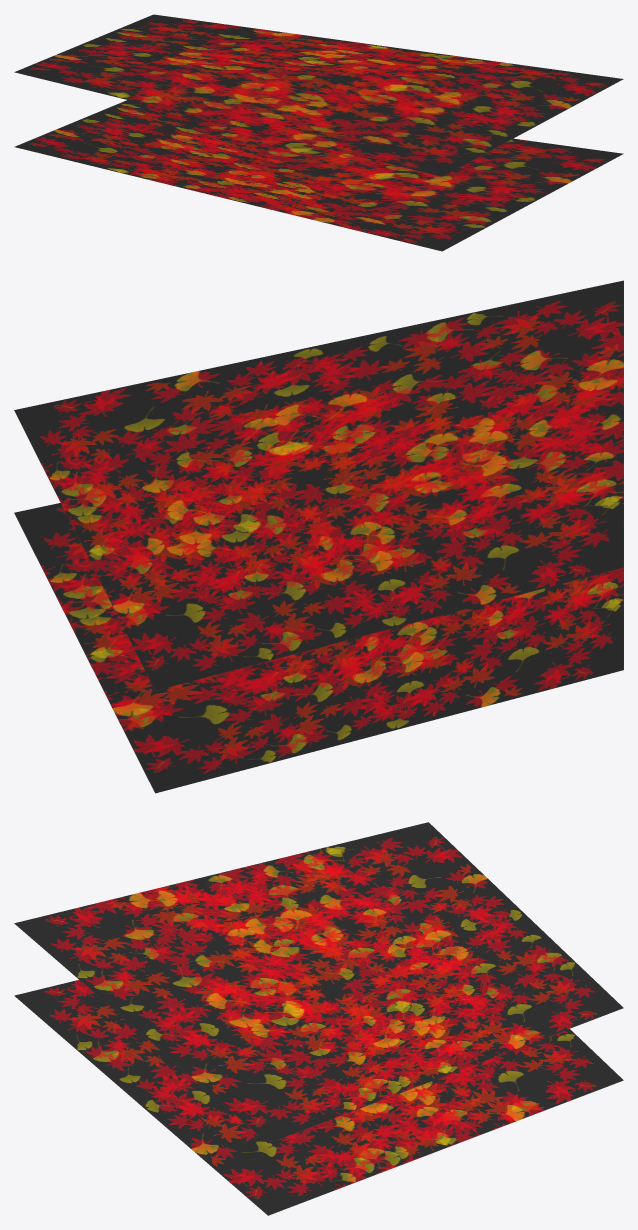
File: OBJ_CourseAki_CurveFloor_2_6.fbx
The picture shows the model from 3 angles, top to bottom: view 1: azimuth 30°, elevation 25°; view 2: azimuth 150°, elevation 25°; view 3: azimuth 270°, elevation 25°; orthographic projection. The views are drawn at different scales.
Visible parts, largest first — view 1: polySurface51, polySurface69; view 2: polySurface51, polySurface69; view 3: polySurface51, polySurface69.
Boxes of the visible parts, x1,y1,x2,y2 form: polySurface51: (14,14,623,176); polySurface69: (14,100,623,251); polySurface51: (14,280,623,690); polySurface69: (14,503,623,793); polySurface51: (14,822,623,1143); polySurface69: (14,980,623,1215).
Size of the model in its own units: 7.38 by 2 by 7.64.
Materials: 1 (1 with a texture image).
